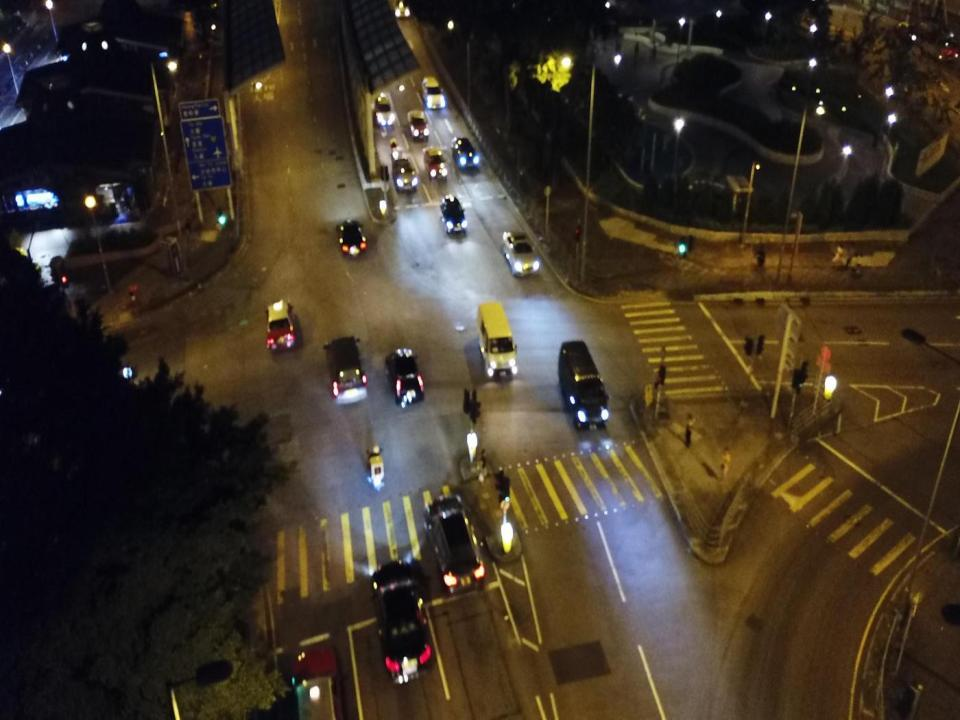car: (372, 561, 436, 685), (424, 495, 487, 595), (292, 644, 348, 719), (322, 334, 369, 406), (385, 347, 426, 407), (501, 229, 541, 277), (265, 298, 296, 352), (334, 218, 368, 258), (439, 194, 468, 234), (392, 157, 420, 192), (451, 136, 481, 168), (420, 75, 446, 110), (423, 146, 448, 182), (374, 94, 395, 131), (406, 109, 429, 140)
van: (558, 341, 610, 430), (476, 301, 518, 380)
